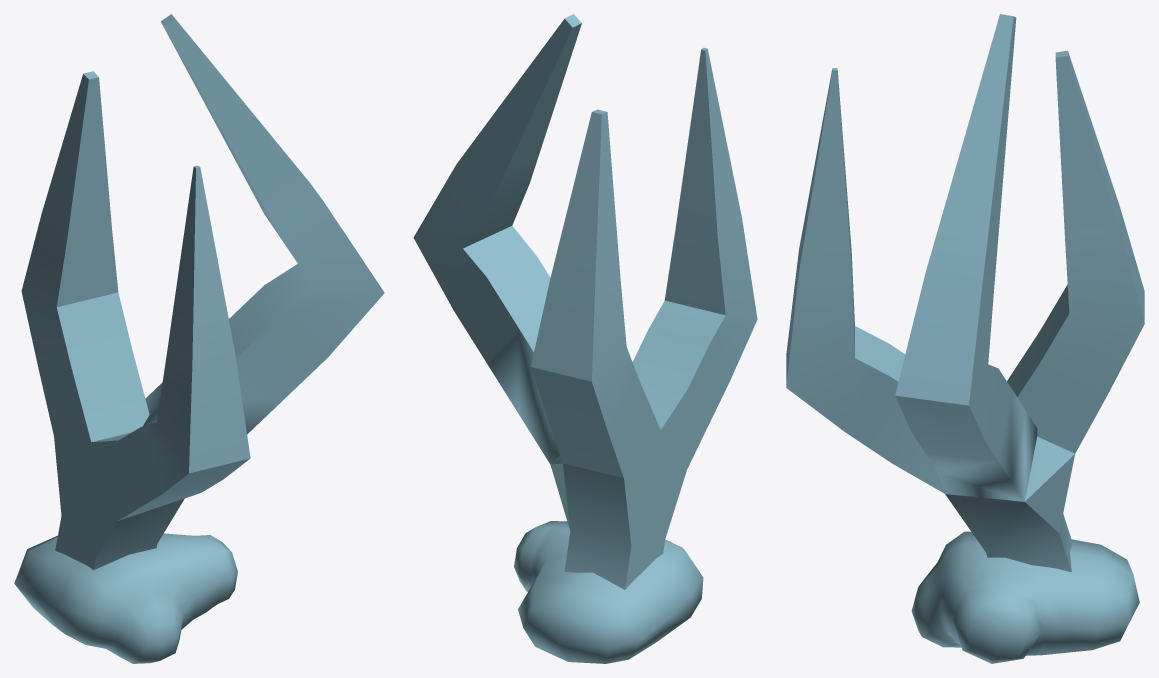
The model's file is cavespikeB.fbx.
3 views of the same model, side by side, from view 1: azimuth 30°, elevation 25°; view 2: azimuth 150°, elevation 25°; view 3: azimuth 270°, elevation 25° (orthographic). The views are drawn at different scales.
Parts seen in each view (by area): view 1: Plane.001, Cube.001; view 2: Plane.001, Cube.001; view 3: Plane.001, Cube.001.
Boxes of the visible parts, x1,y1,x2,y2 form: Plane.001: [21, 14, 384, 570]; Cube.001: [14, 533, 237, 663]; Plane.001: [413, 14, 757, 589]; Cube.001: [514, 521, 703, 663]; Plane.001: [786, 14, 1144, 572]; Cube.001: [911, 531, 1139, 663].
Size of the model in its own units: 237 by 469 by 232.
